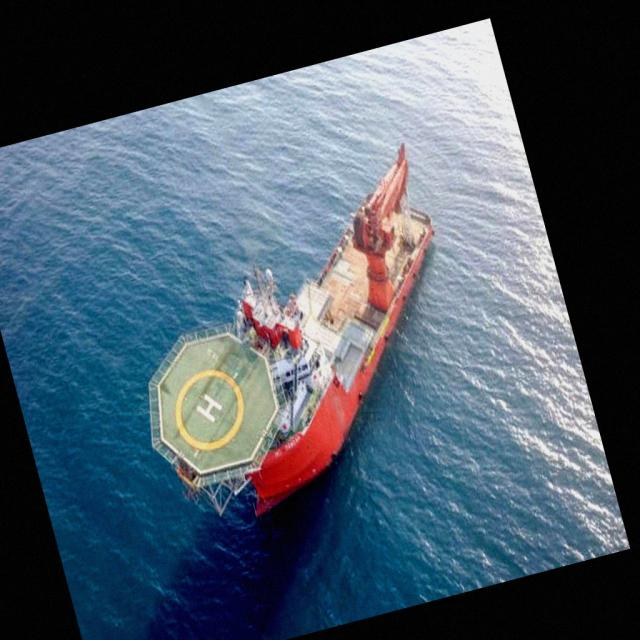helipad: (172, 366, 245, 452)
